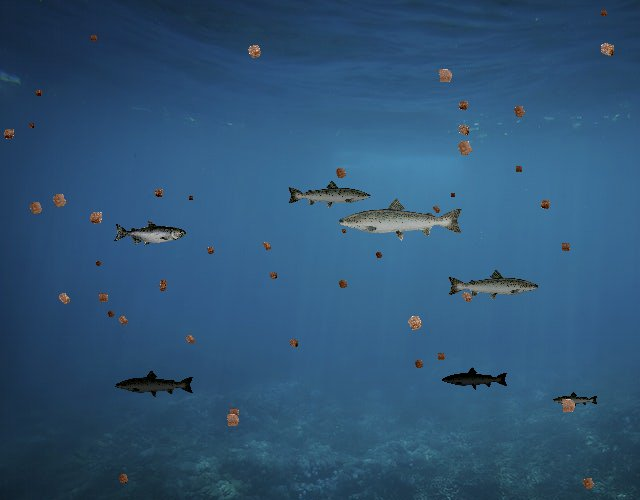Fish: (336, 196, 465, 242), (447, 269, 541, 303), (286, 179, 372, 210), (114, 370, 195, 399), (114, 220, 187, 247), (442, 367, 510, 391), (552, 392, 599, 409)
Pellet: (240, 38, 268, 66), (52, 286, 77, 311), (576, 472, 600, 496), (25, 119, 37, 131)
